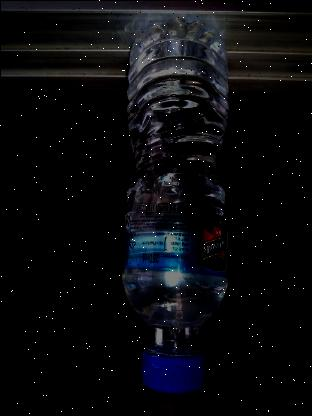Plastic Bottle: (112, 10, 234, 404)
